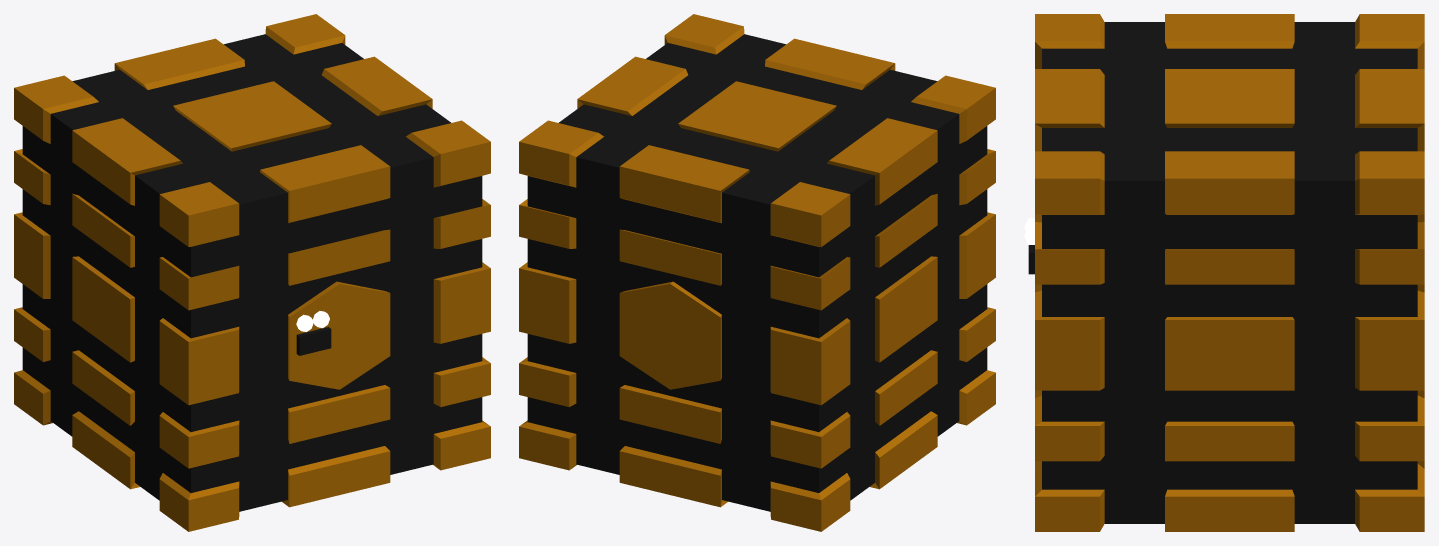
File: Container Cube.fbx
3 renders of one model, left to right at view 1: azimuth 30°, elevation 25°; view 2: azimuth 150°, elevation 25°; view 3: azimuth 270°, elevation 25°, orthographic. The views are drawn at different scales.
Visible parts, largest first — view 1: Container Cube; view 2: Container Cube; view 3: Container Cube.
Boxes of the visible parts, x1=… form: Container Cube: x1=14, y1=14, x2=490, y2=531; Container Cube: x1=519, y1=14, x2=995, y2=531; Container Cube: x1=1024, y1=14, x2=1424, y2=531.
Size of the model in its own units: 200 by 200 by 205.
